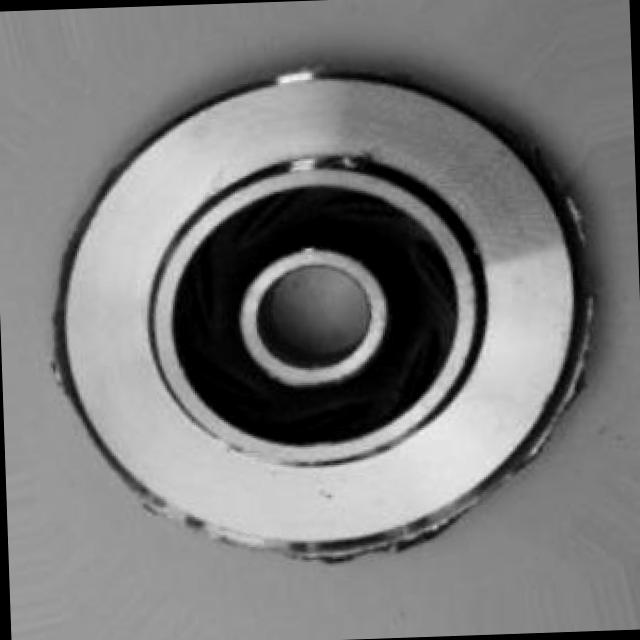Defect: (303, 476, 362, 514)
